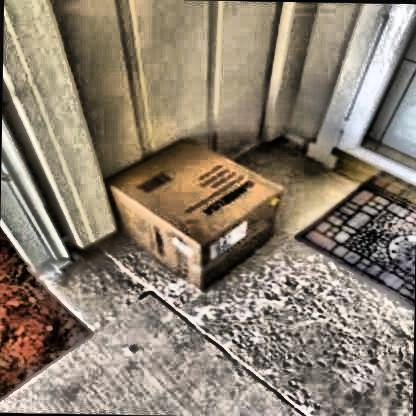no defect parcel: (70, 106, 309, 323)
